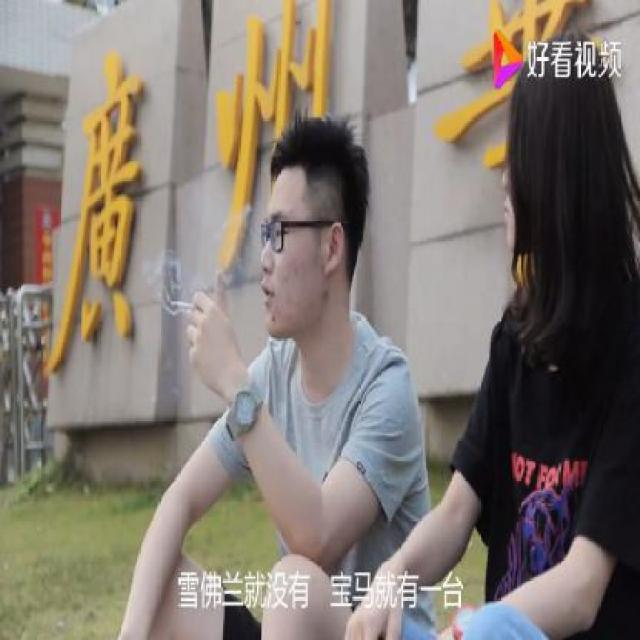cigarette: (166, 288, 203, 322)
